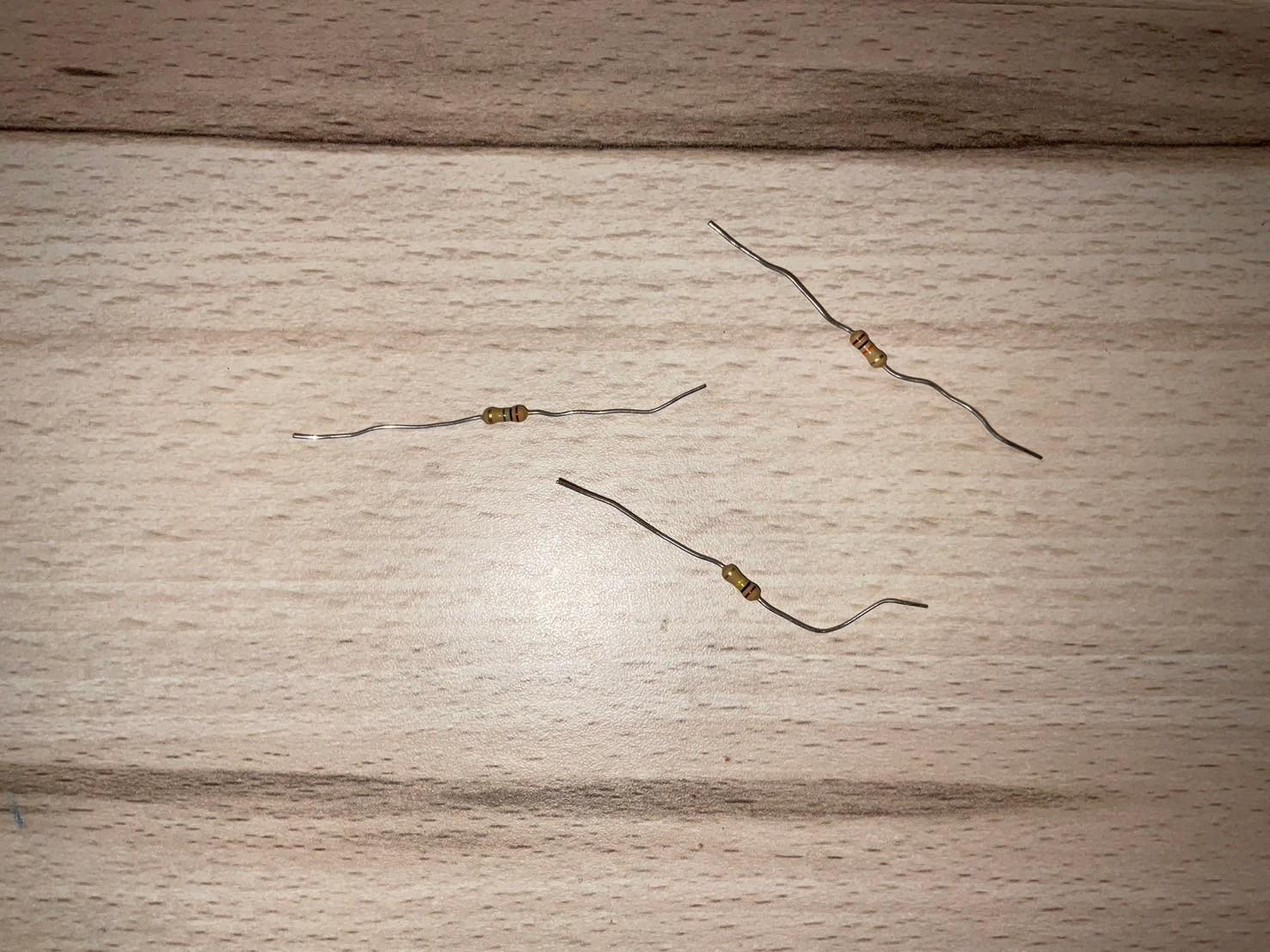resistor: (719, 562, 763, 602), (847, 329, 887, 370), (480, 405, 531, 425)
